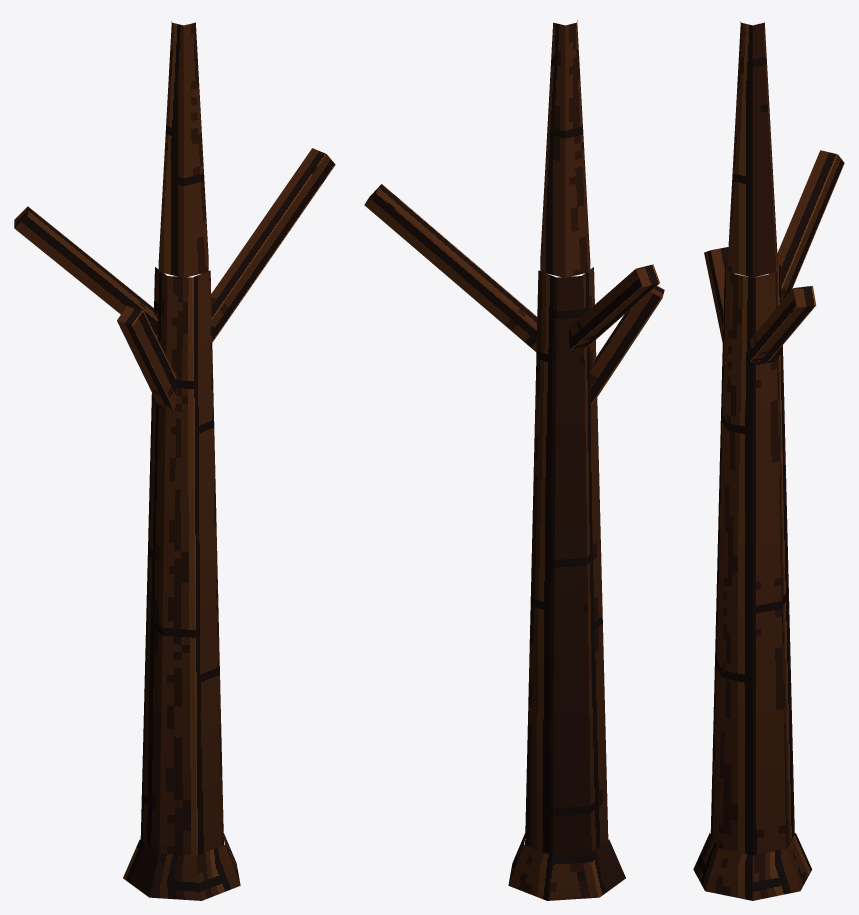
File: birch_3_trunk.glb
3 views of the same model, side by side, from view 1: azimuth 30°, elevation 25°; view 2: azimuth 150°, elevation 25°; view 3: azimuth 270°, elevation 25° (orthographic).
Parts seen in each view (by area): view 1: birch_3_trunk; view 2: birch_3_trunk; view 3: birch_3_trunk.
Boxes of the visible parts, <box> form: birch_3_trunk: <box>14,21,335,900</box>; birch_3_trunk: <box>364,20,664,900</box>; birch_3_trunk: <box>693,21,844,900</box>.
Size of the model in its own units: 2.08 by 5.57 by 0.8931.
1 material, 1 textured.
